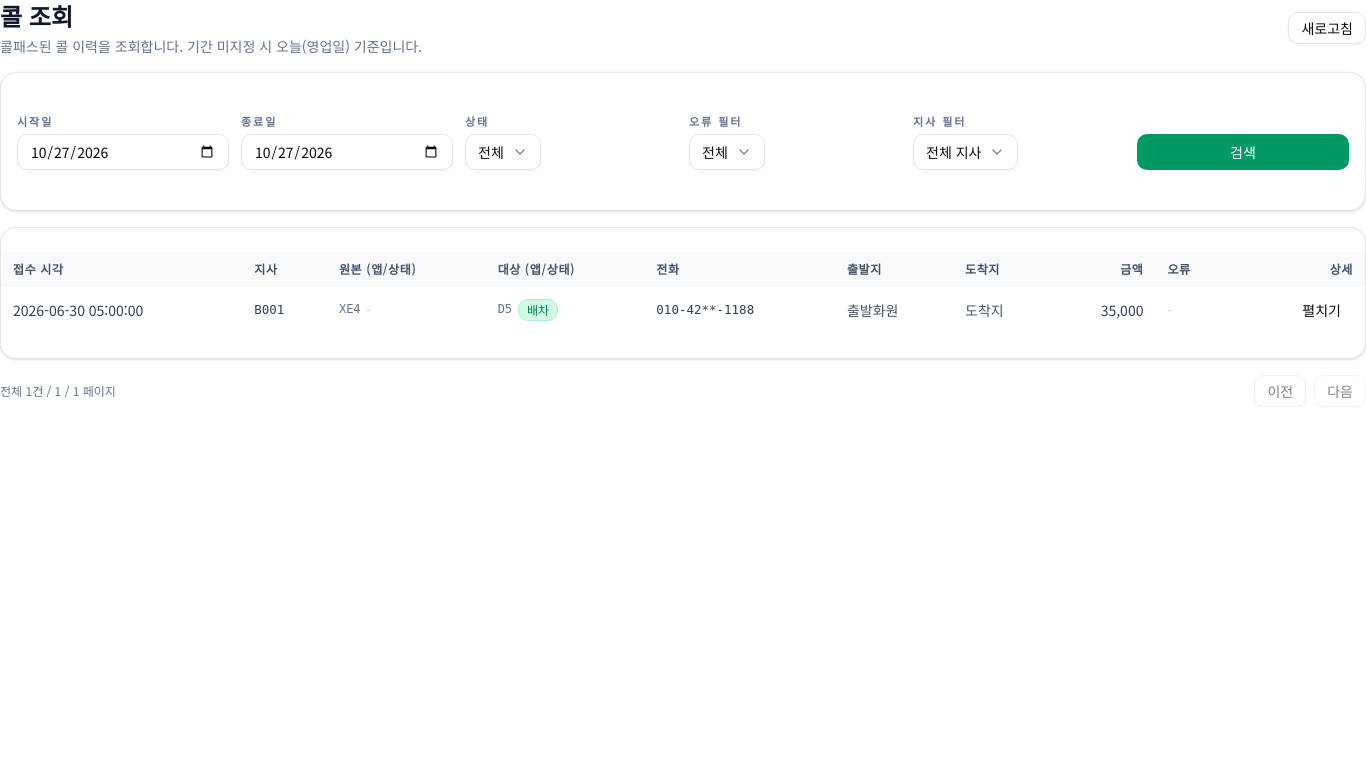
Test: AircpmCallsPage › super: 로그 복사 버튼 → clipboard.writeText(로그), 라벨 복사됨
This screenshot has width=1366, height=768.
Expected: the text "010-42**-1188" is shown, [644,285,835,334]
Click the button "펼치기". click: [1322, 310]
box: [1290,294,1353,326]
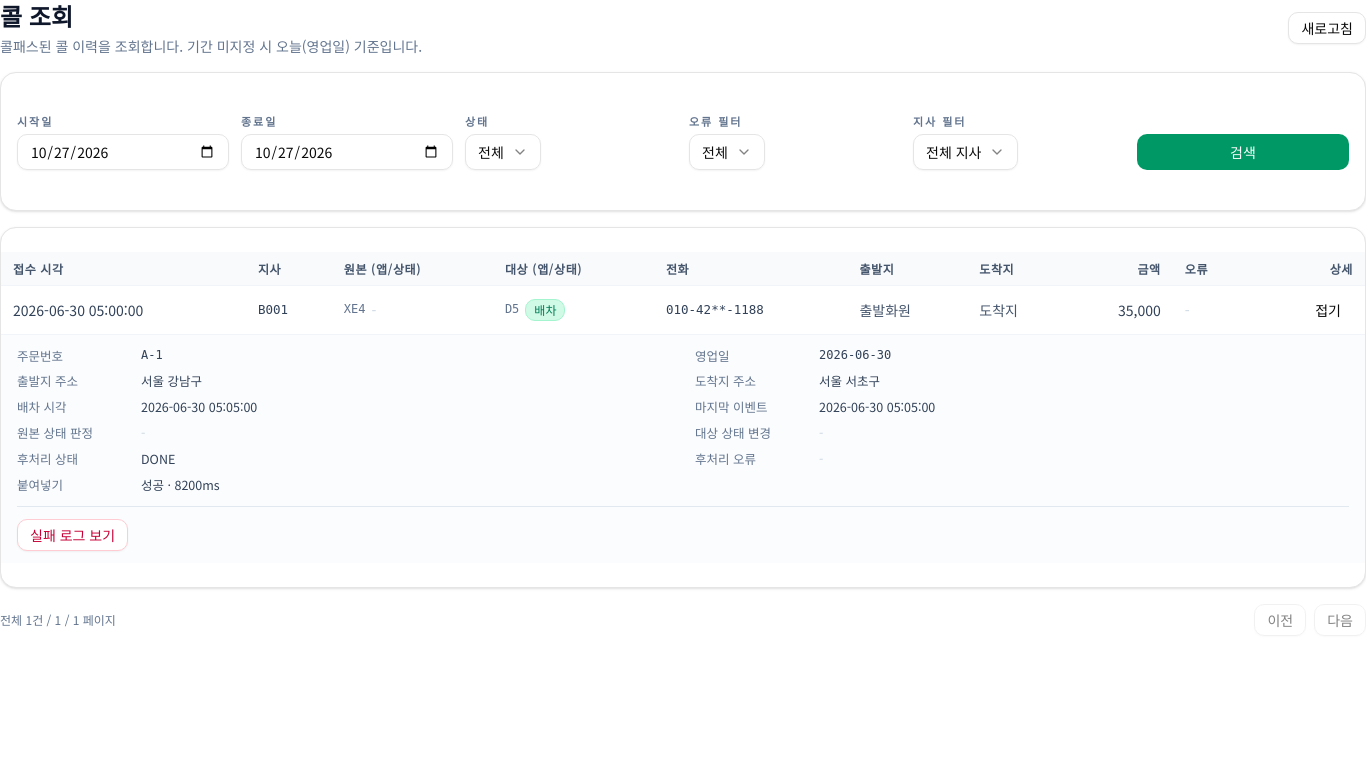
Click the button "실패 로그 보기". click: [73, 535]
box: [17,519,128,551]
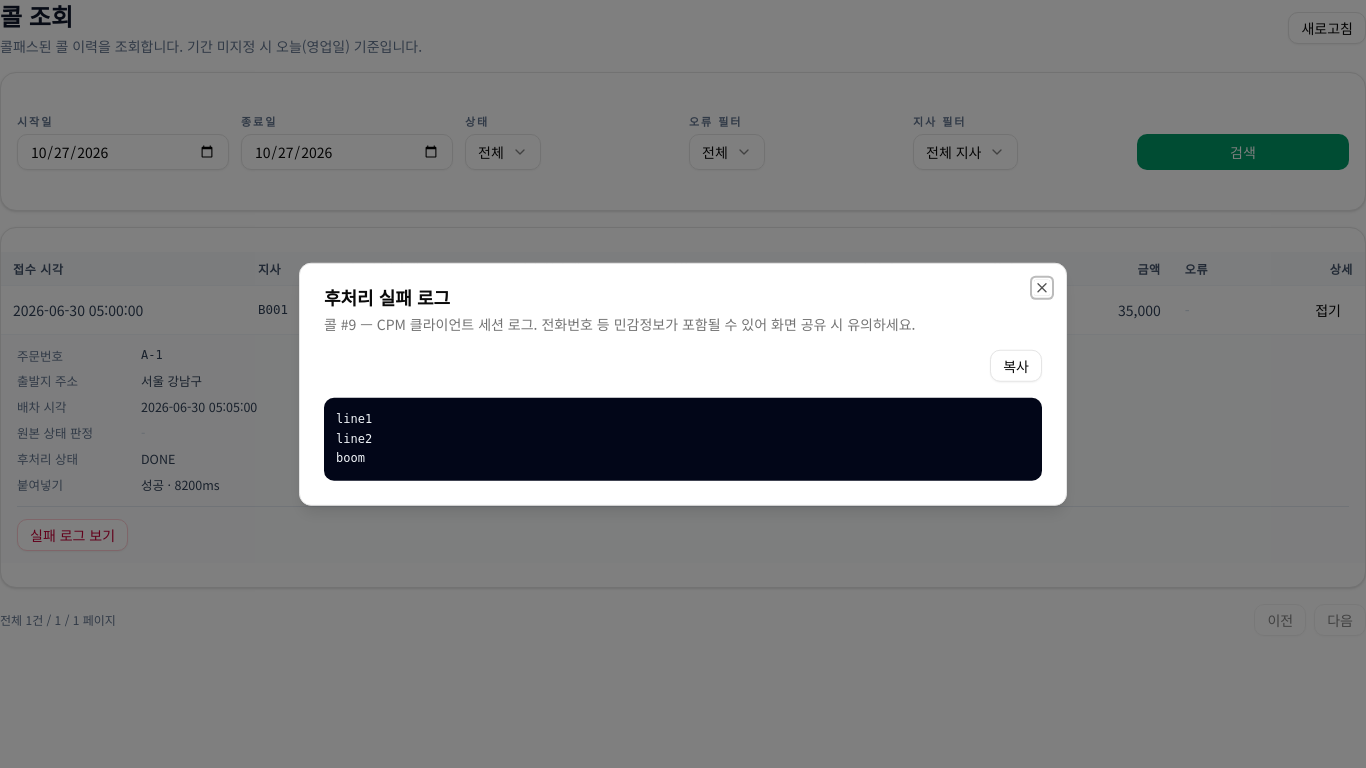
Click the button "복사". click: [1016, 366]
box: [990,350,1042,382]
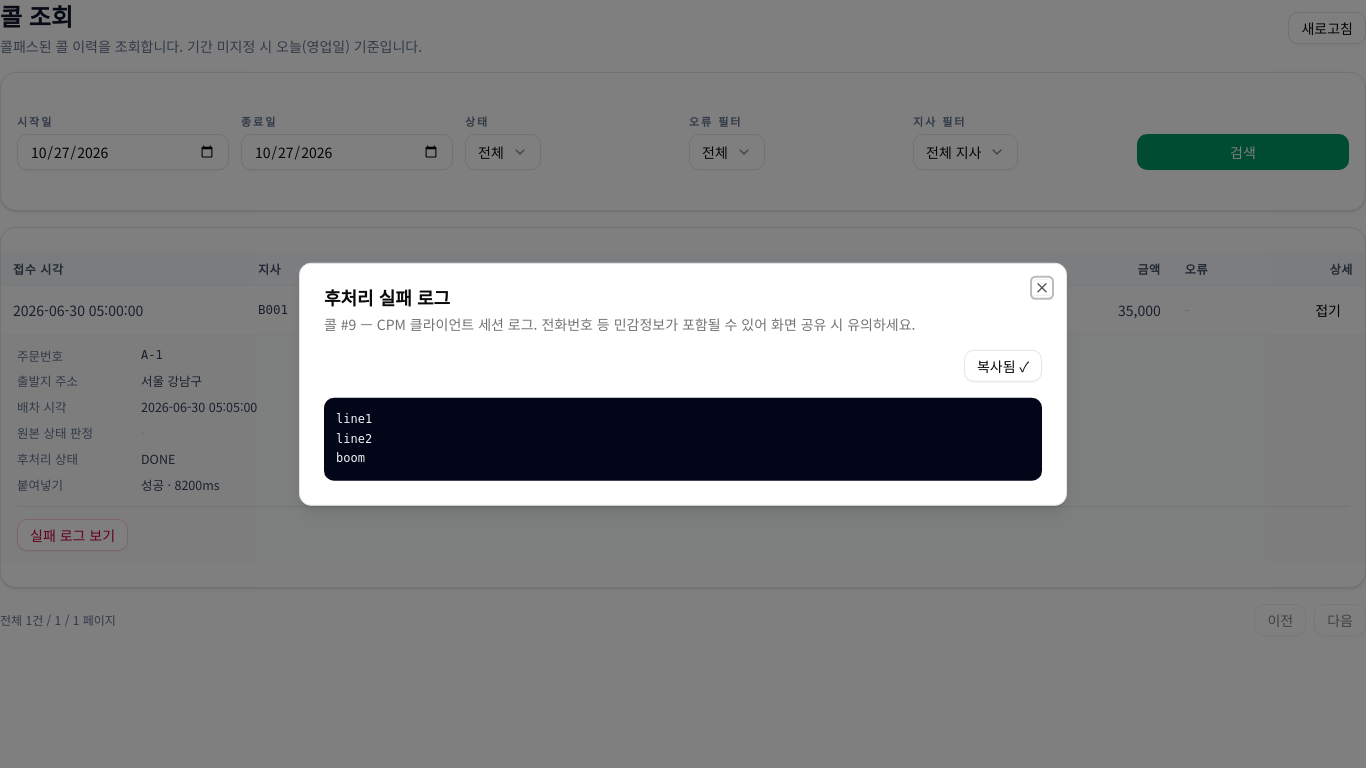
Expected: the button "복사됨 ✓" is shown, [964,350,1042,382]
